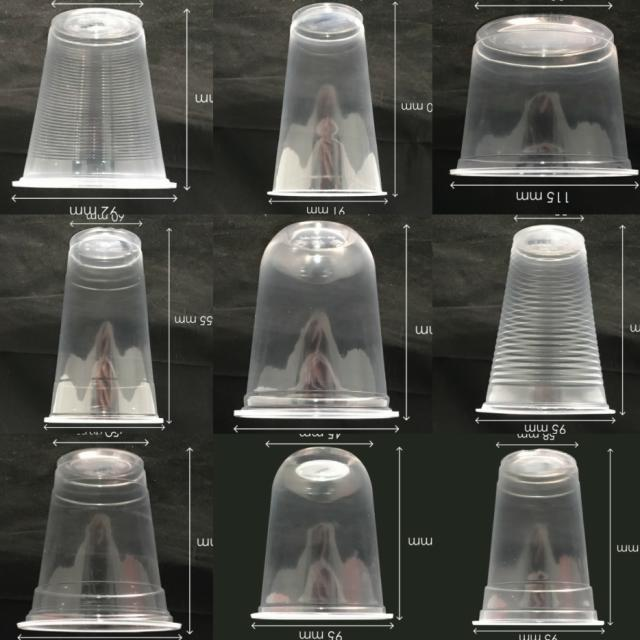plastik: (235, 221, 399, 418), (451, 13, 636, 176), (18, 449, 181, 632), (13, 9, 176, 188), (478, 226, 614, 414), (252, 447, 392, 620), (45, 228, 162, 423), (474, 449, 603, 625), (269, 4, 384, 196)
